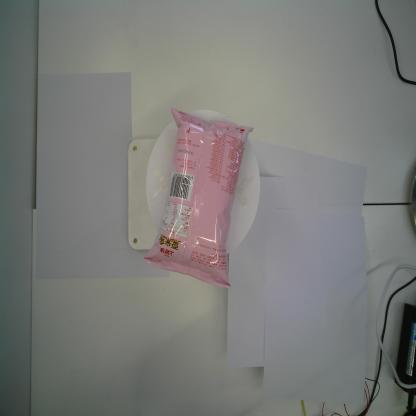Puffed Food: (141, 103, 254, 289)
